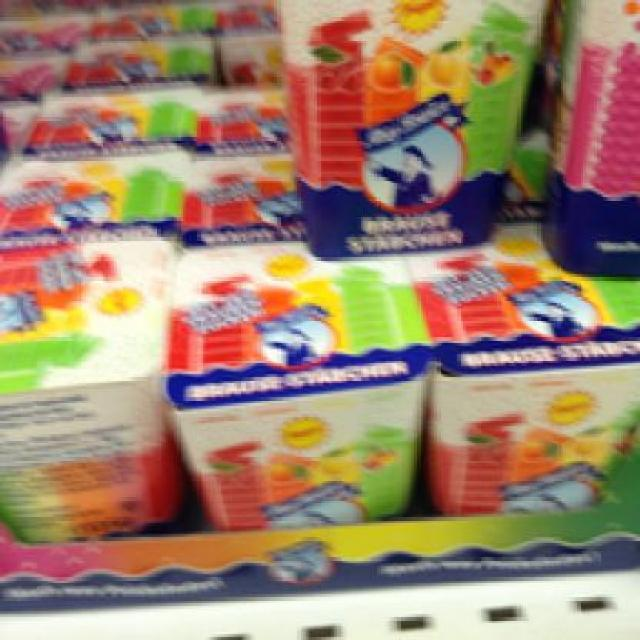Candy: (174, 234, 420, 543), (408, 232, 628, 534), (282, 3, 528, 260), (0, 246, 177, 540), (540, 0, 637, 249)
